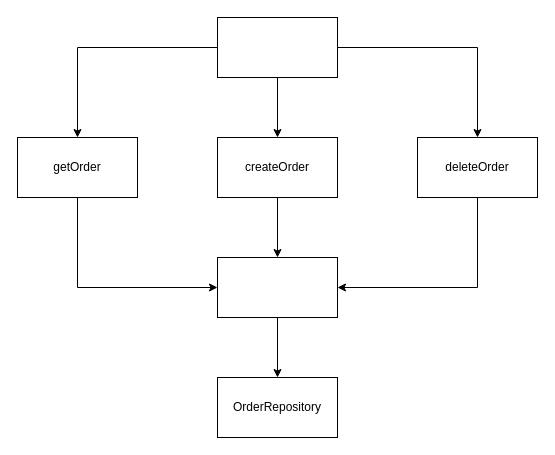
The diagram is 555 pixels wide and 455 high, and some of its shapes have lost their labels. The centre of each missing label's shape, as x and y in pixels:
Client: pixel 277 47
OrderService: pixel 277 287
